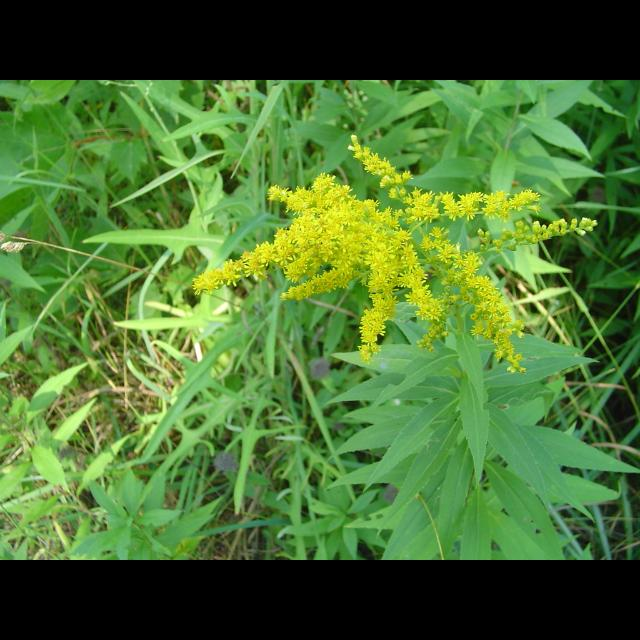Flower: (179, 134, 596, 370), (445, 204, 461, 218)
